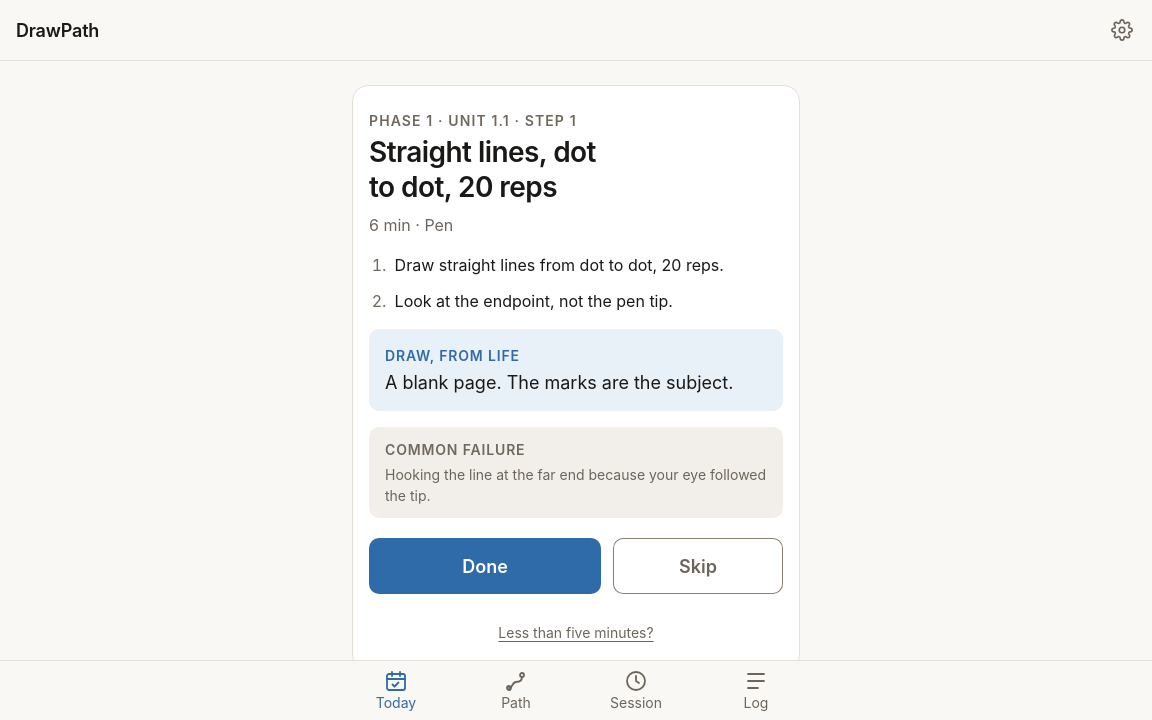
Test: App shell › routes to a tab on tap
The width and height of the screenshot is (1152, 720).
Click the link "Path": (516, 690) left=501, top=669, right=531, bottom=711
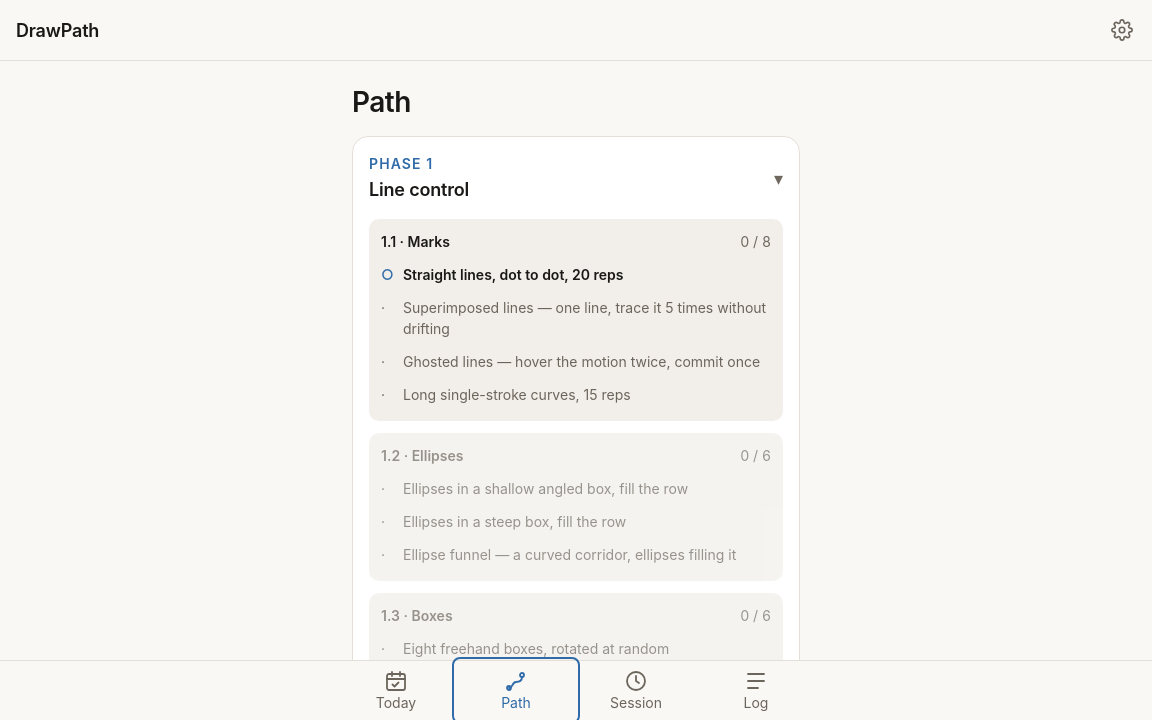
Expected: the heading "Path" is shown, left=352, top=85, right=411, bottom=119
